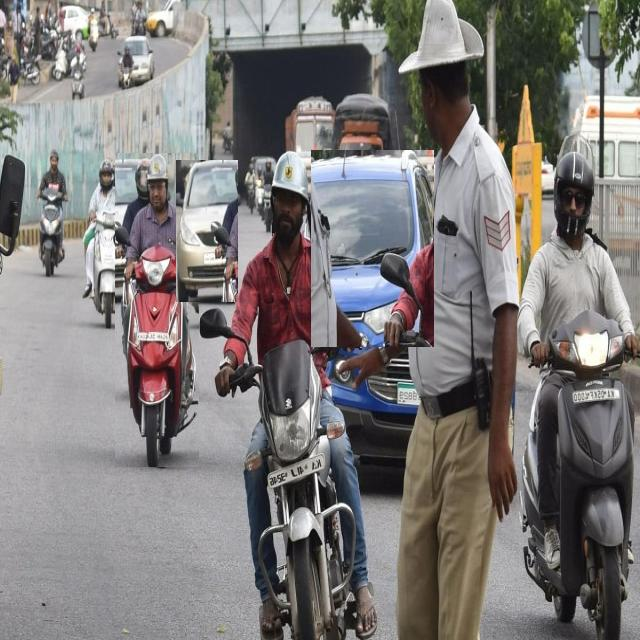car: (311, 151, 434, 347), (176, 160, 238, 302)
motorcycle: (200, 151, 378, 640), (518, 136, 638, 638), (115, 153, 199, 467), (84, 160, 126, 328), (36, 149, 68, 276)
